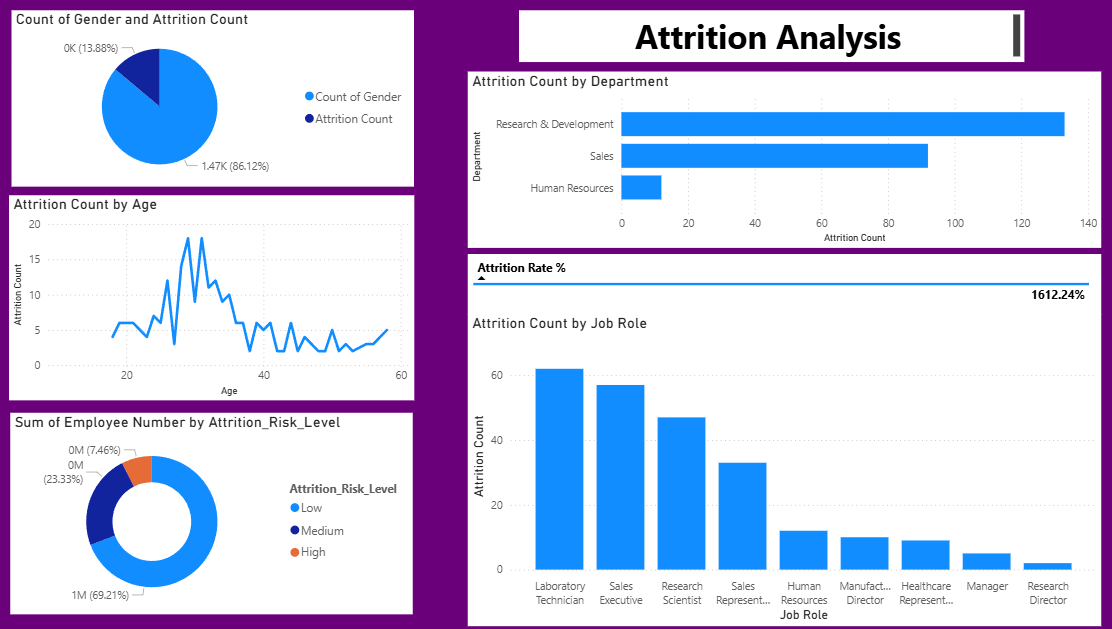

Layout of this report page (visuals, bound fields, positions):
{"tool":"powerbi","page":{"name":"Page 1","canvas":[1280,720],"ordinal":3},"visuals":[{"type":"tableEx","fields":{"Values":["HR-Employee-Attrition.Attrition Rate %"]},"box":[535.7,291.4,724.3,68.6],"z":0},{"type":"pieChart","fields":{"Y":["CountNonNull(HR-Employee-Attrition.Gender)","HR-Employee-Attrition.Attrition Count"]},"box":[14.3,12.9,460,201.4],"z":1000},{"type":"clusteredBarChart","fields":{"Y":["HR-Employee-Attrition.Attrition Count"],"Category":["HR-Employee-Attrition.Department"]},"box":[536.2,82.2,723.9,201.2],"z":2000},{"type":"clusteredColumnChart","fields":{"Y":["HR-Employee-Attrition.Attrition Count"],"Category":["HR-Employee-Attrition.Job Role"]},"box":[535.7,360,724.3,357.1],"z":3000},{"type":"lineChart","fields":{"Category":["HR-Employee-Attrition.Age"],"Y":["HR-Employee-Attrition.Attrition Count"]},"box":[11.4,224.3,462.9,234.3],"z":4000},{"type":"donutChart","fields":{"Category":["HR-Employee-Attrition.Attrition_Risk_Level"],"Y":["Sum(HR-Employee-Attrition.Employee Number)"]},"box":[12.9,472.9,460,230],"z":5000},{"type":"textbox","box":[593.9,12.3,577.9,58.9],"z":6000}]}

Visuals, with their boxes in screenshot pixels (x1, y1, x2, y2), scaled from the page's 1280x720 canvas onto the 1112x629 screenshot:
tableEx - HR-Employee-Attrition.Attrition Rate %: l=465, t=255, r=1095, b=314
pieChart - CountNonNull(HR-Employee-Attrition.Gender) x HR-Employee-Attrition.Attrition Count: l=12, t=11, r=412, b=187
clusteredBarChart - HR-Employee-Attrition.Attrition Count x HR-Employee-Attrition.Department: l=466, t=72, r=1095, b=248
clusteredColumnChart - HR-Employee-Attrition.Attrition Count x HR-Employee-Attrition.Job Role: l=465, t=314, r=1095, b=626
lineChart - HR-Employee-Attrition.Age x HR-Employee-Attrition.Attrition Count: l=10, t=196, r=412, b=401
donutChart - HR-Employee-Attrition.Attrition_Risk_Level x Sum(HR-Employee-Attrition.Employee Number): l=11, t=413, r=411, b=614
textbox: l=516, t=11, r=1018, b=62
